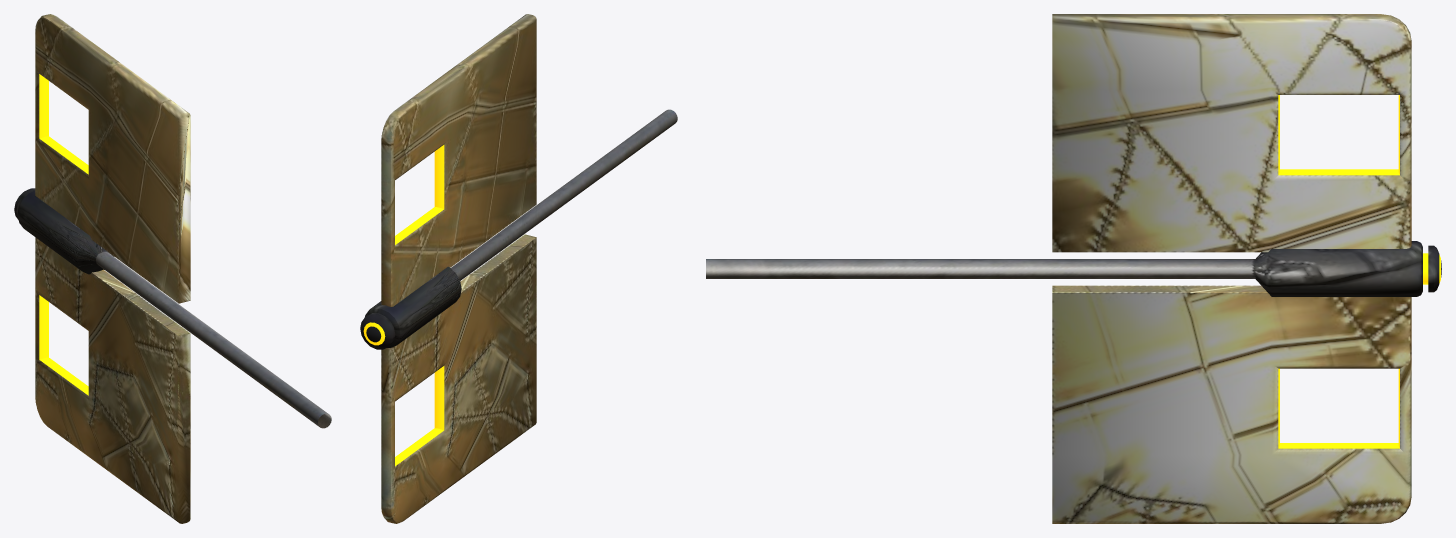
The model's file is floor.02.machine5.gltf.
3 views of the same model, side by side, from view 1: azimuth 30°, elevation 25°; view 2: azimuth 150°, elevation 25°; view 3: azimuth 270°, elevation 25° (orthographic). The views are drawn at different scales.
Parts seen in each view (by area): view 1: floor.02.machine.06; view 2: floor.02.machine.06; view 3: floor.02.machine.06.
Part boxes in pixels (left/top/right/bottom): floor.02.machine.06: left=14, top=14, right=331, bottom=523; floor.02.machine.06: left=360, top=14, right=677, bottom=523; floor.02.machine.06: left=706, top=14, right=1441, bottom=523.
Size of what is drawn, in the model's own units: 1 by 10 by 13.16.
Materials: 2 (1 with a texture image).
